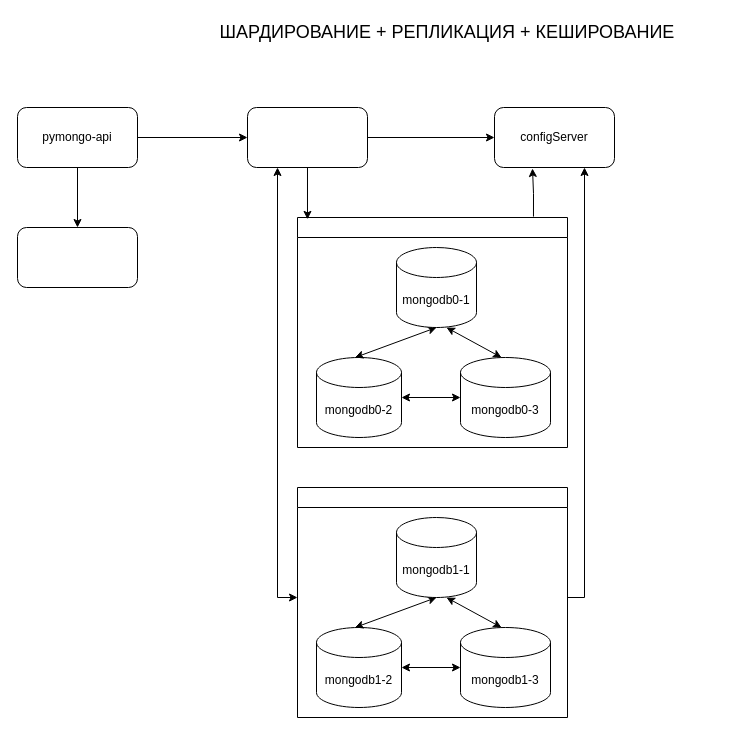
The diagram is 735 pixels wide and 735 high, and some of its shapes have lost their labels. Each missing label, with the box of its shape:
redis: (16, 226, 138, 288)
Replicaset0: (296, 216, 568, 448)
Replicaset1: (296, 486, 568, 718)
router: (246, 106, 368, 168)
